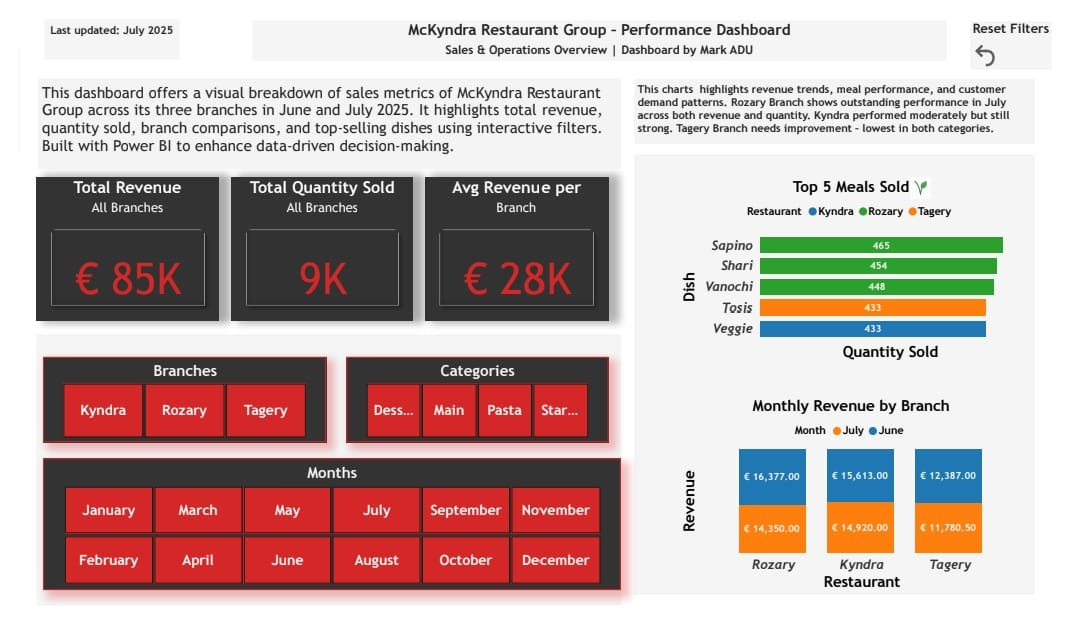

The dashboard page shown, as its layout file describes it:
{"tool":"powerbi","page":{"name":"Overview","canvas":[1280,720],"ordinal":0},"visuals":[{"type":"shape","box":[20,385.9,718.5,334],"z":0},{"type":"shape","box":[754.5,166.3,492.3,540.2],"z":1000},{"type":"shape","box":[21.3,194.3,701.2,175.6],"z":2000},{"type":"textbox","title":"McKyndra Restaurant Group – Performance Dashboard","box":[286.1,1.3,852.9,49.2],"z":3000},{"type":"cardVisual","title":"Total Revenue","fields":{"Data":["Sum(cleaned_sales_data_maslow.Revenue)"]},"box":[21.3,194.3,223.5,175.6],"z":4000},{"type":"slicer","title":"Branches","fields":{"Values":["cleaned_sales_data_maslow.Restaurant"]},"box":[29.3,413.8,347.3,105.1],"z":5000},{"type":"barChart","title":"Top 5 Meals Sold ","fields":{"Category":["cleaned_sales_data_maslow.Dish"],"Y":["Sum(cleaned_sales_data_maslow.Quantity_Sold)"],"Series":["cleaned_sales_data_maslow.Restaurant"]},"box":[807.7,194.3,427.1,230.2],"z":6000},{"type":"hundredPercentStackedColumnChart","title":"Monthly Revenue by Branch","fields":{"Y":["Sum(cleaned_sales_data_maslow.Revenue)"],"Category":["cleaned_sales_data_maslow.Restaurant"],"Series":["cleaned_sales_data_maslow.Month"]},"box":[807.7,463,427.1,243.5],"z":7000},{"type":"slicer","title":"Categories","fields":{"Values":["cleaned_sales_data_maslow.Category"]},"box":[401.8,413.8,320.7,105.1],"z":8000},{"type":"slicer","title":"Months","fields":{"Values":["cleaned_sales_data_maslow.Date.Variation.Date Hierarchy.Month"]},"box":[29.3,538.9,709.2,162.3],"z":9000},{"type":"cardVisual","title":"Avg Revenue per ","fields":{"Data":["cleaned_sales_data_maslow.Avg Revenue per Branch"]},"box":[499,194.3,223.5,175.6],"z":10000},{"type":"image","box":[1093.8,194.3,25.3,25.3],"z":11000},{"type":"textbox","box":[29.6,0,166.9,49.9],"z":12000},{"type":"cardVisual","title":"Total Quantity Sold","fields":{"Data":["Sum(cleaned_sales_data_maslow.Quantity_Sold)"]},"box":[260.8,194.3,223.5,175.6],"z":13000},{"type":"textbox","box":[22.6,73.2,715.9,110.4],"z":14000},{"type":"actionButton","title":"Reset Filters","box":[1168.4,1.6,99.8,60.8],"z":15000},{"type":"textbox","box":[754.5,73.2,492.3,79.8],"z":16000}]}

Visuals, with their boxes on the page's 1280x720 design canvas (x1, y1, x2, y2). These are canvas units, not pixel positions in the 1080x624 screenshot, which may show the page scaled, cropped or inside an application window:
shape: select_region(20, 386, 738, 720)
shape: select_region(754, 166, 1247, 706)
shape: select_region(21, 194, 722, 370)
"McKyndra Restaurant Group – Performance Dashboard" textbox: select_region(286, 1, 1139, 50)
"Total Revenue" cardVisual: select_region(21, 194, 245, 370)
"Branches" slicer: select_region(29, 414, 377, 519)
"Top 5 Meals Sold " barChart: select_region(808, 194, 1235, 424)
"Monthly Revenue by Branch" hundredPercentStackedColumnChart: select_region(808, 463, 1235, 706)
"Categories" slicer: select_region(402, 414, 722, 519)
"Months" slicer: select_region(29, 539, 738, 701)
"Avg Revenue per " cardVisual: select_region(499, 194, 722, 370)
image: select_region(1094, 194, 1119, 220)
textbox: select_region(30, 0, 196, 50)
"Total Quantity Sold" cardVisual: select_region(261, 194, 484, 370)
textbox: select_region(23, 73, 738, 184)
"Reset Filters" actionButton: select_region(1168, 2, 1268, 62)
textbox: select_region(754, 73, 1247, 153)
